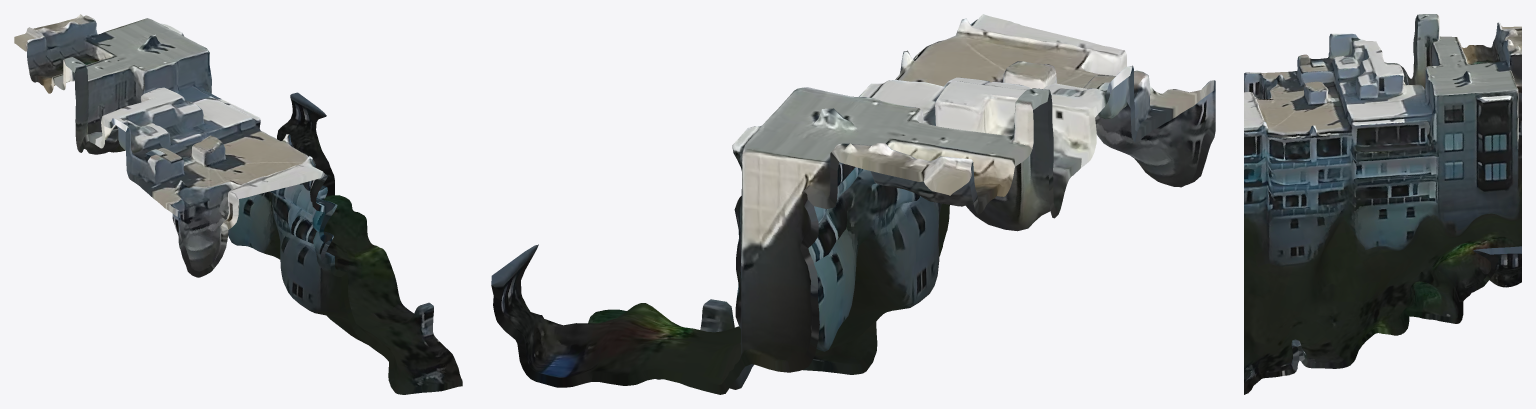
Rendered from z20-167717-405198-h0-yup-uvflip-v3-world.glb.
The picture shows the model from 3 angles, left to right: view 1: azimuth 30°, elevation 25°; view 2: azimuth 150°, elevation 25°; view 3: azimuth 270°, elevation 25°; orthographic projection. The views are drawn at different scales.
Bounding box in the file's own units: 30.2 × 31.8 × 30.32.
1 material, 1 textured.
